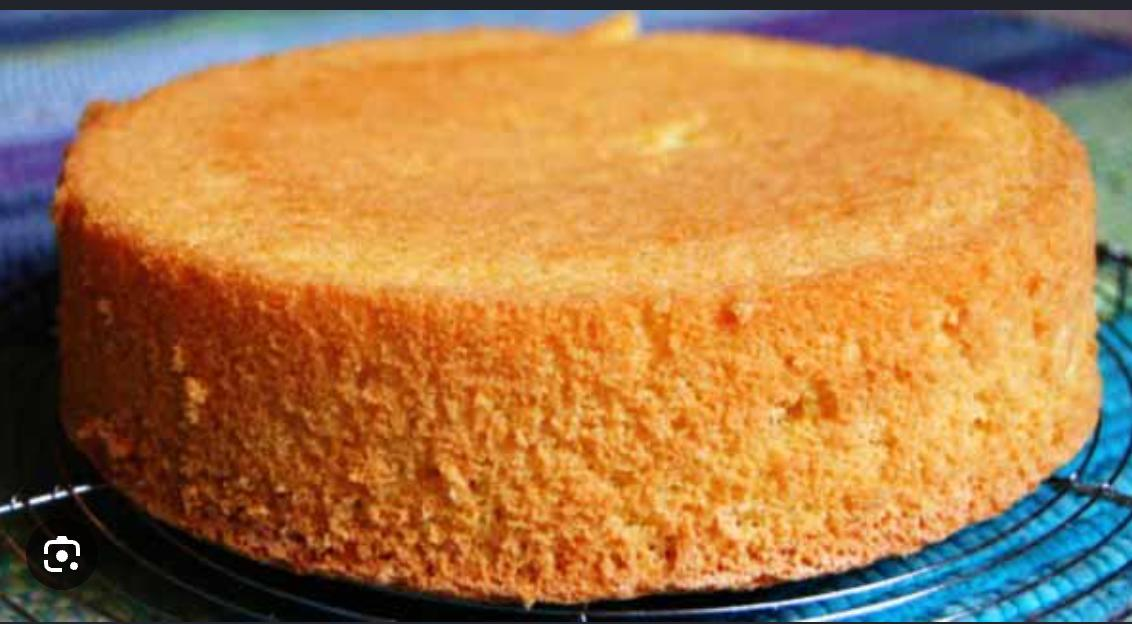Sponge Cake: (50, 35, 1106, 609)
